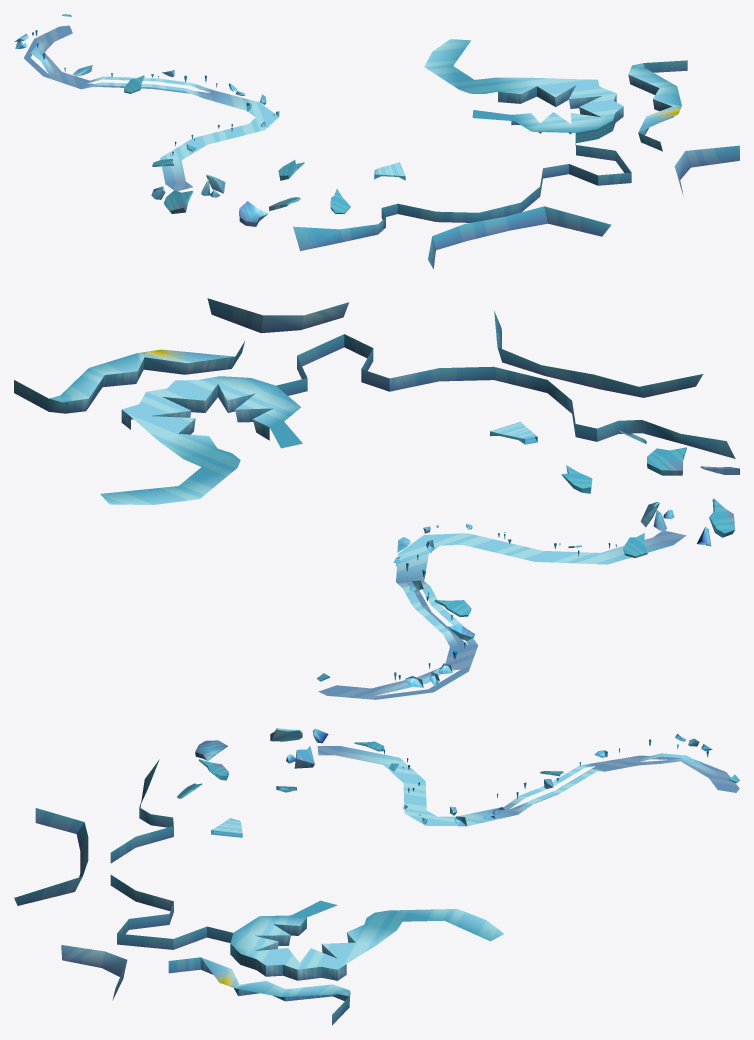
The model's file is object_53_lev2.glb.
The picture shows the model from 3 angles, top to bottom: view 1: azimuth 30°, elevation 25°; view 2: azimuth 150°, elevation 25°; view 3: azimuth 270°, elevation 25°; orthographic projection. The views are drawn at different scales.
Parts seen in each view (by area): view 1: object_53_lev2; view 2: object_53_lev2; view 3: object_53_lev2.
Boxes of the visible parts, bbox=[...] form: object_53_lev2: bbox=[14, 14, 739, 268]; object_53_lev2: bbox=[14, 298, 739, 699]; object_53_lev2: bbox=[14, 728, 739, 1025].
Size of the model in its own units: 127 by 7.25 by 139.
1 material, 1 textured.
